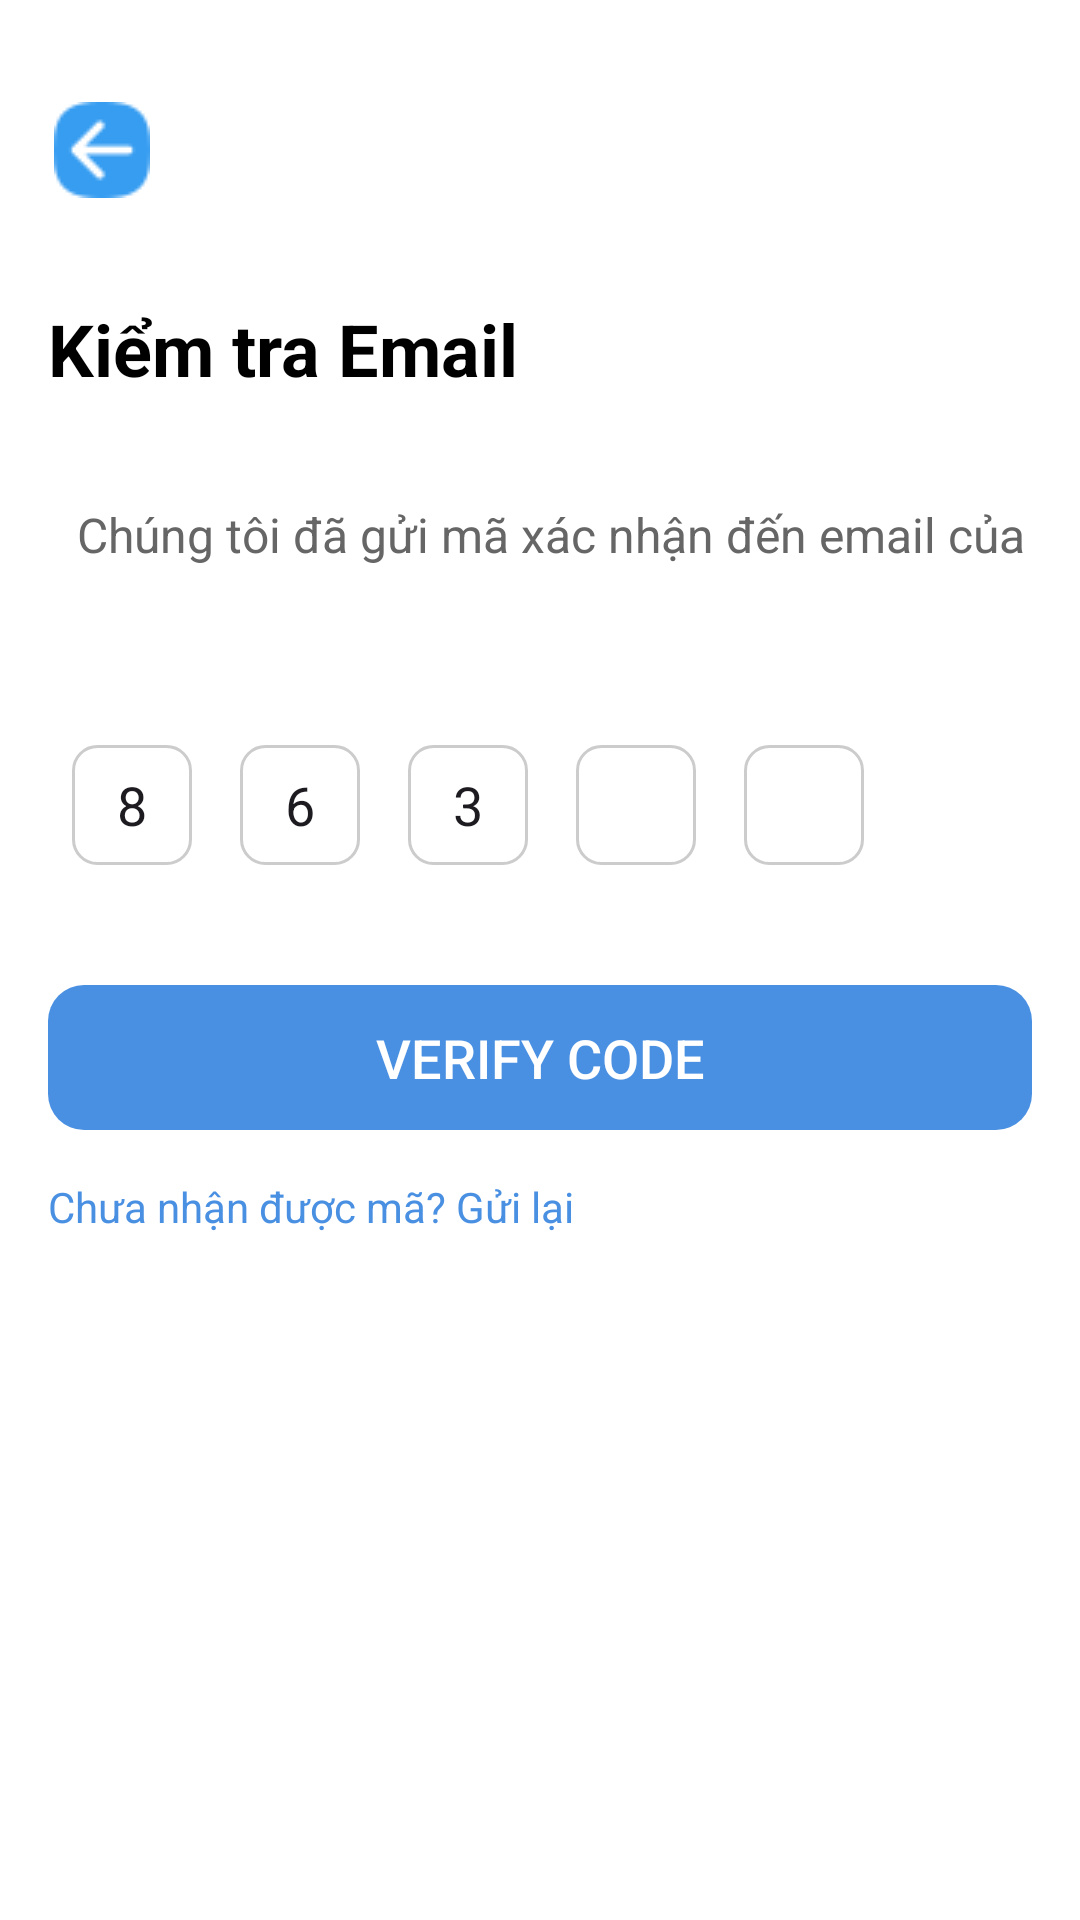

Screen size 1080 × 1920. Icon name, then its center in pixels as (x,y):
left: (102,150)
